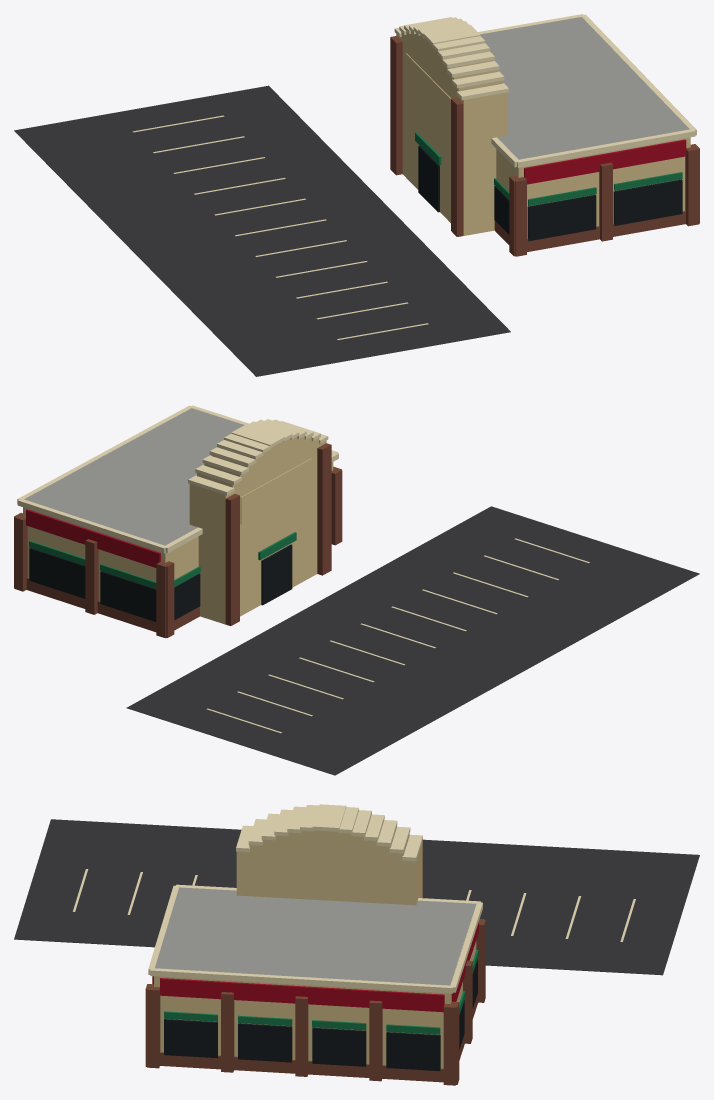
File: ph_sannicolas.glb
The picture shows the model from 3 angles, top to bottom: view 1: azimuth 30°, elevation 25°; view 2: azimuth 150°, elevation 25°; view 3: azimuth 270°, elevation 25°; orthographic projection. The views are drawn at different scales.
Parts seen in each view (by area): view 1: ph_sannicolas_lod0; view 2: ph_sannicolas_lod0; view 3: ph_sannicolas_lod0.
Part boxes in pixels (x1=…): ph_sannicolas_lod0: x1=14, y1=14, x2=699, y2=376; ph_sannicolas_lod0: x1=14, y1=405, x2=699, y2=775; ph_sannicolas_lod0: x1=14, y1=804, x2=699, y2=1085.
Size of what is drawn, in the model's own units: 30.78 by 9.19 by 33.54.
